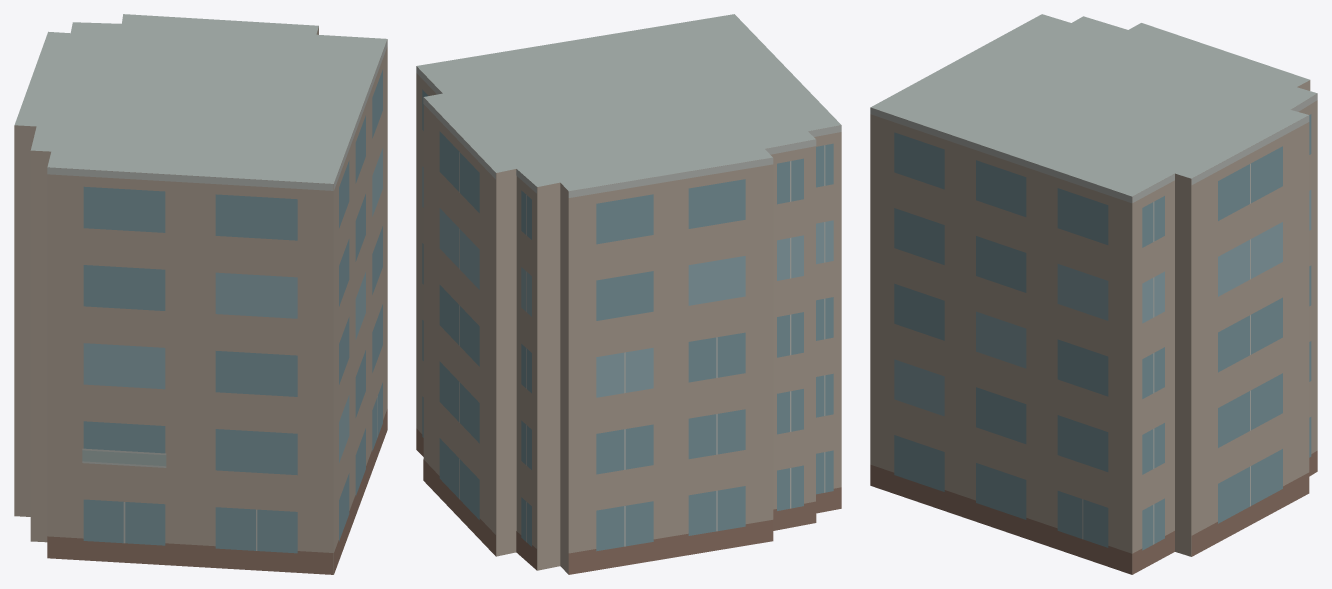
File: survey-upis-32807197.glb
3 views of the same model, side by side, from view 1: azimuth 30°, elevation 25°; view 2: azimuth 150°, elevation 25°; view 3: azimuth 270°, elevation 25° (orthographic). The views are drawn at different scales.
Parts seen in each view (by area): view 1: survey-upis-32807197.tmp; view 2: survey-upis-32807197.tmp; view 3: survey-upis-32807197.tmp.
Boxes of the visible parts, <box> form: survey-upis-32807197.tmp: <box>14,14,387,574</box>; survey-upis-32807197.tmp: <box>416,14,841,574</box>; survey-upis-32807197.tmp: <box>870,14,1317,574</box>.
Bounding box in the file's own units: 14.09 × 13.6 × 14.58.
